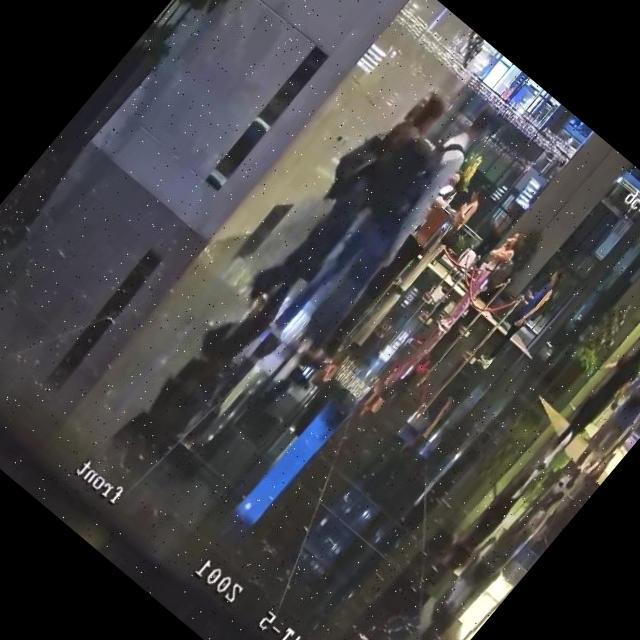person: (262, 86, 510, 367), (231, 76, 454, 329), (469, 256, 572, 372), (547, 325, 640, 453), (565, 332, 640, 479), (476, 225, 528, 282), (441, 181, 492, 237)
